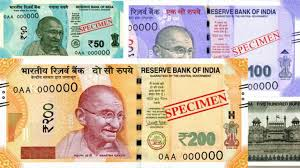twoHundred: (17, 83, 222, 151)
